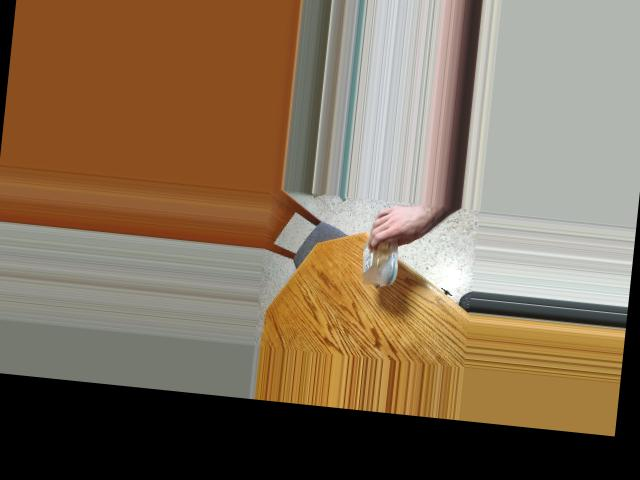cheese: (350, 223, 415, 294)
